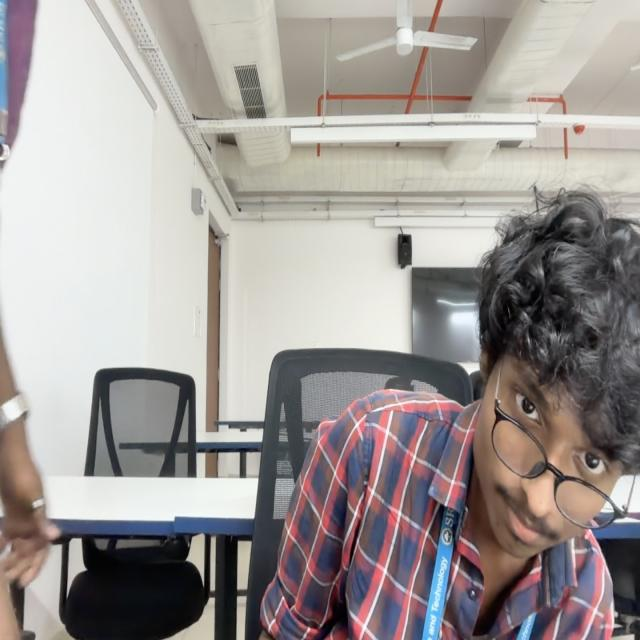darshan: (472, 185, 639, 562)
